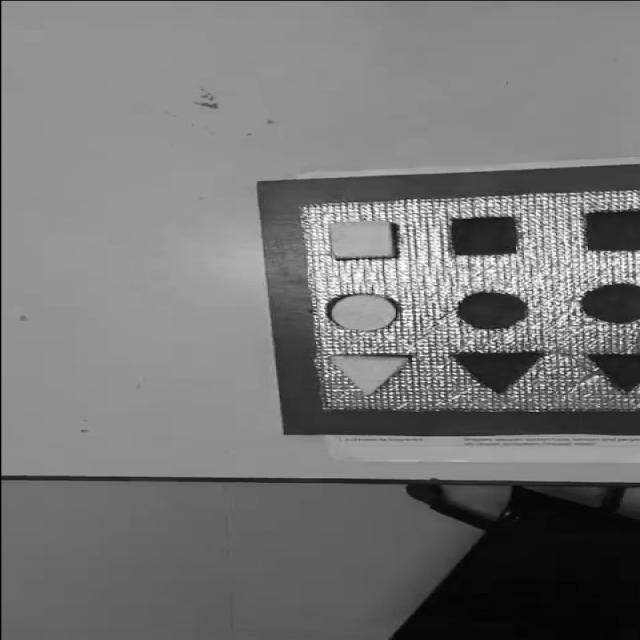mtcircle: (456, 291, 528, 329), (577, 282, 640, 324)
mtcube: (449, 215, 522, 257), (582, 208, 640, 252)
mttriangle: (450, 350, 545, 395), (590, 349, 640, 391)
wb: (297, 189, 640, 411)
ycircle: (327, 292, 399, 332)
ycube: (326, 218, 400, 260)
ytriangle: (331, 354, 409, 395)
